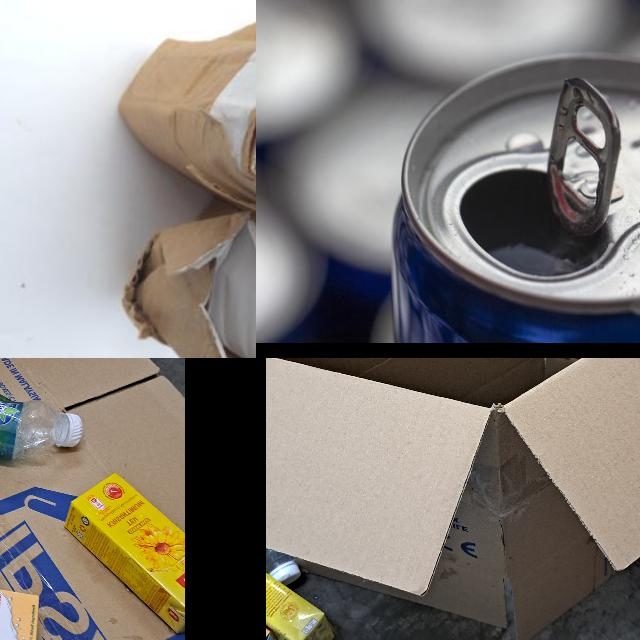aba de lata: (542, 74, 622, 240)
caixinha: (64, 473, 184, 633), (266, 567, 335, 640)
garrafa plástica: (0, 368, 82, 460)
lata: (382, 51, 640, 342)
papelão: (266, 358, 640, 640), (0, 358, 185, 640), (120, 0, 256, 358)
tampa plástica: (58, 413, 86, 449), (271, 563, 301, 585)
